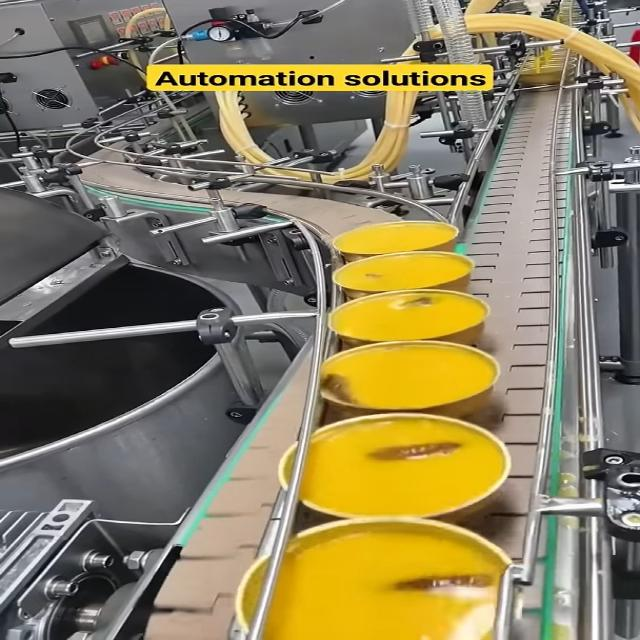cup: (227, 516, 534, 640), (271, 413, 522, 525), (307, 338, 511, 421), (317, 286, 499, 350), (326, 247, 487, 301), (324, 218, 467, 261)
